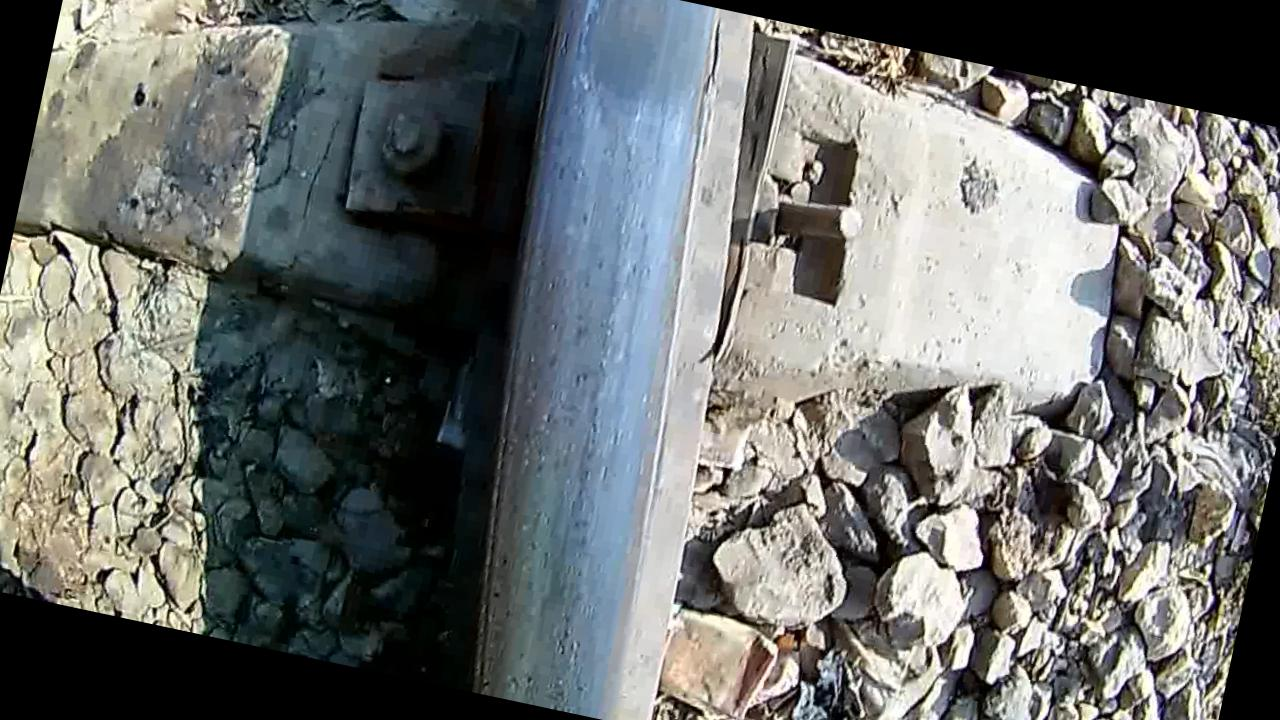bolt_missing: (531, 0, 744, 164)
